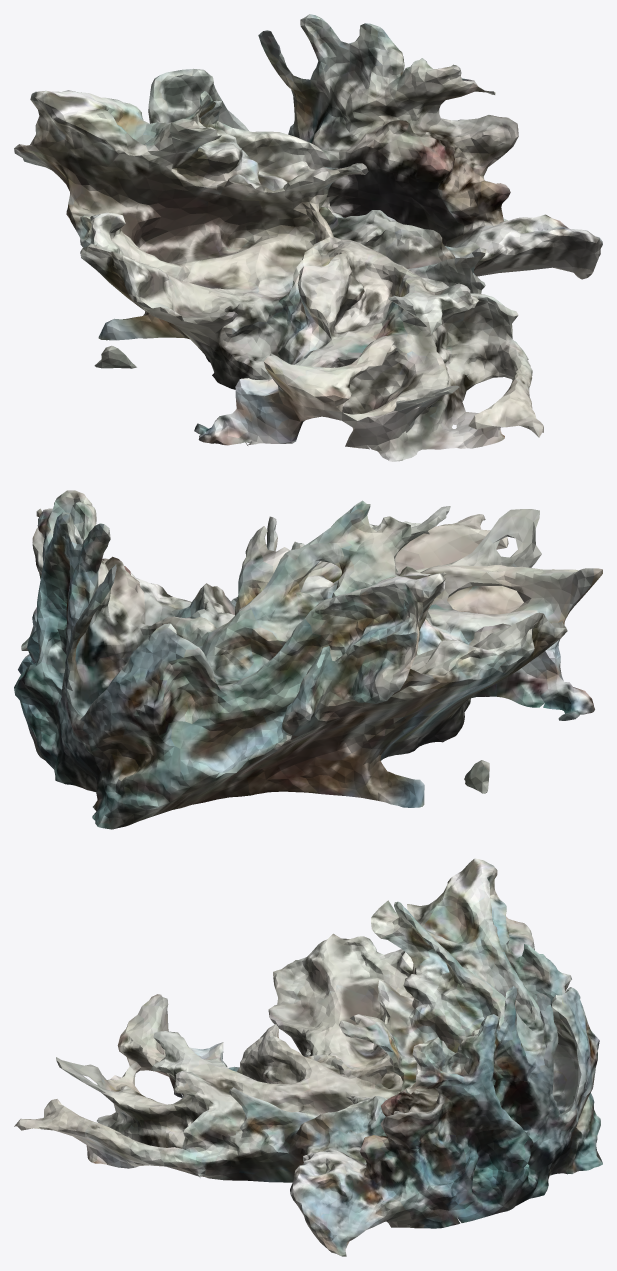
The model's file is lichen.glb.
3 renders of one model, top to bottom at view 1: azimuth 30°, elevation 25°; view 2: azimuth 150°, elevation 25°; view 3: azimuth 270°, elevation 25°, orthographic. The views are drawn at different scales.
Size of the model in its own units: 0.2983 by 0.1428 by 0.3619.
Materials: 1 (1 with a texture image).
